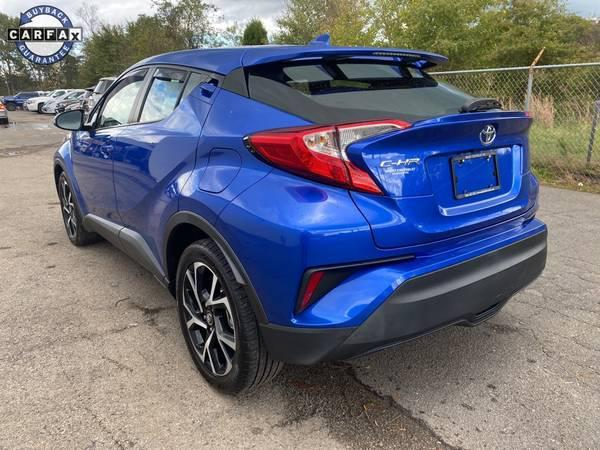Front_Left_Door: (68, 131, 128, 252)
Front_Left_Window: (78, 71, 149, 135)
Left_Taillight: (244, 118, 410, 196)
Rear_Bumper: (211, 165, 547, 362)
Rear_Fender: (174, 75, 323, 228)
Rear_Left_Door: (114, 78, 223, 293)
Rear_Left_Window: (132, 68, 218, 129)
Rear_Windshield: (243, 50, 530, 123)
Roof: (123, 43, 449, 74)
Tailgate: (344, 109, 536, 250)
Wheel: (176, 239, 281, 391), (57, 174, 77, 239)
